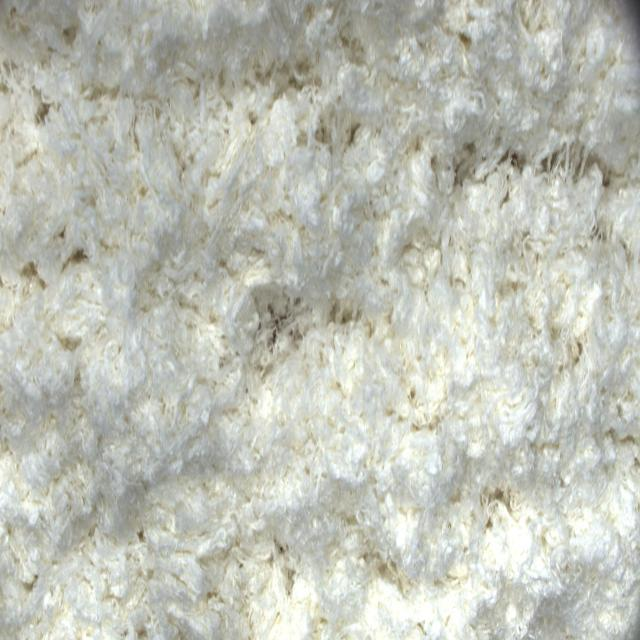dust: (264, 301, 296, 360), (508, 150, 527, 181)
